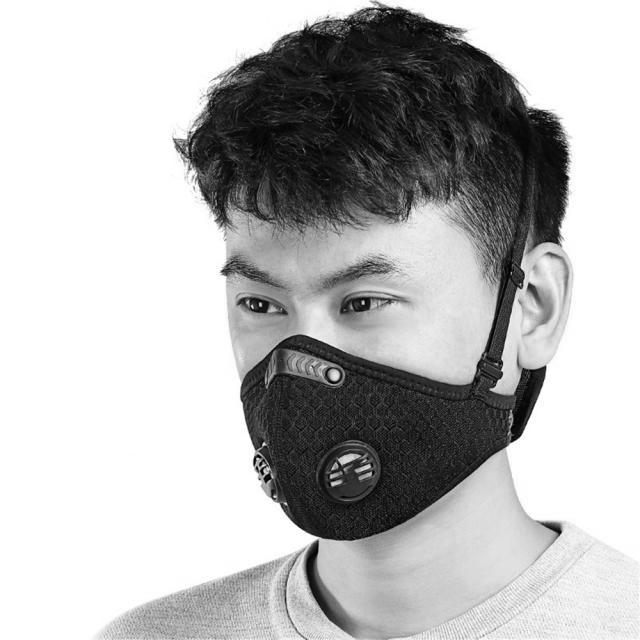fake: (233, 334, 519, 547)
real: (221, 201, 516, 548)
